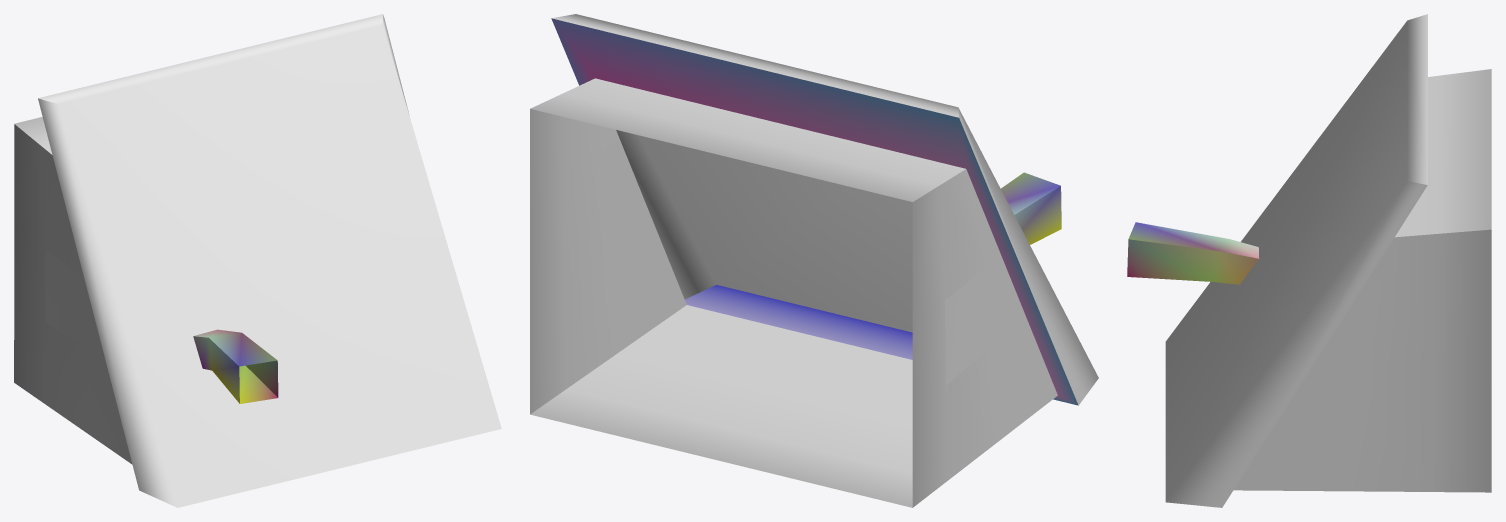
File: Village_ModularC_lit.glb
3 renders of one model, left to right at view 1: azimuth 30°, elevation 25°; view 2: azimuth 150°, elevation 25°; view 3: azimuth 270°, elevation 25°, orthographic. The views are drawn at different scales.
Parts seen in each view (by area): view 1: MeshNode_1, MeshNode_2, MeshNode_0; view 2: MeshNode_2, MeshNode_1, MeshNode_0; view 3: MeshNode_2, MeshNode_1, MeshNode_0.
Part boxes in pixels (box(x1,y1,x2,y2)): MeshNode_1: box(38, 14, 501, 507); MeshNode_2: box(14, 117, 132, 464); MeshNode_0: box(193, 329, 278, 403); MeshNode_2: box(530, 78, 1057, 507); MeshNode_1: box(552, 14, 1098, 405); MeshNode_0: box(551, 18, 1078, 405); MeshNode_2: box(1234, 69, 1491, 492); MeshNode_1: box(1165, 14, 1427, 507); MeshNode_0: box(1127, 222, 1259, 284).
Size of the model in its own units: 14.84 by 13.06 by 13.37.
